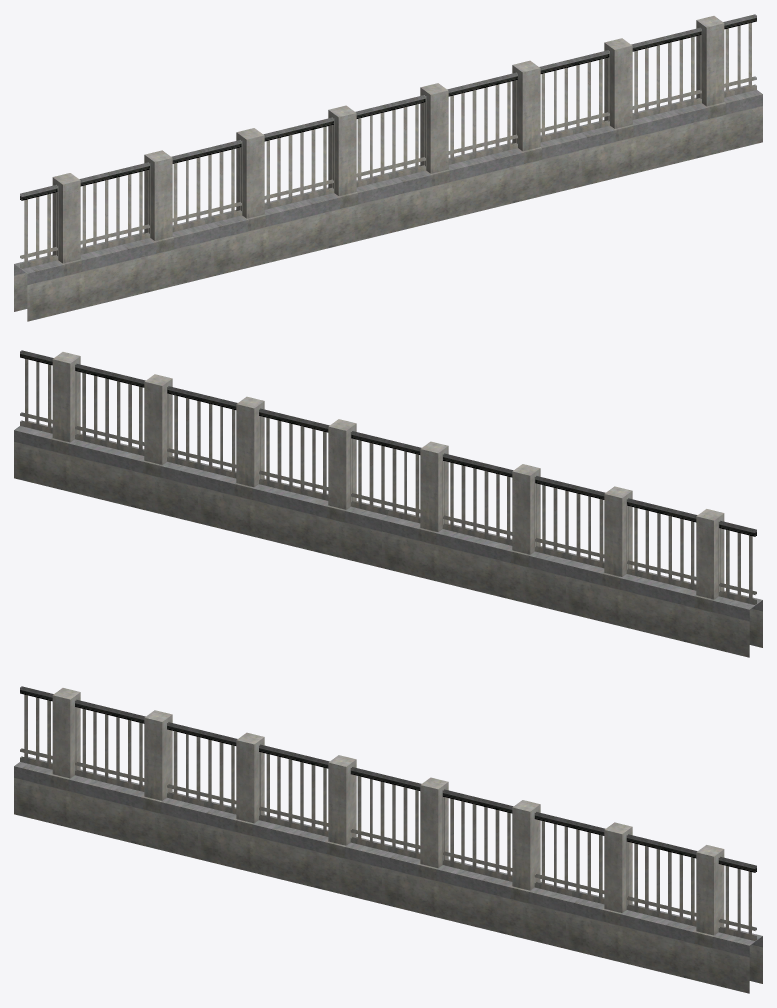
File: thm_corl_imprv_wall_4x32_s02_l2.fbx
The picture shows the model from 3 angles, top to bottom: view 1: azimuth 30°, elevation 25°; view 2: azimuth 150°, elevation 25°; view 3: azimuth 330°, elevation 25°; orthographic projection.
Parts seen in each view (by area): view 1: mesh_node; view 2: mesh_node; view 3: mesh_node.
Part boxes in pixels (bbox=[...]): mesh_node: bbox=[14, 14, 762, 321]; mesh_node: bbox=[14, 350, 762, 657]; mesh_node: bbox=[14, 686, 762, 993].
Bounding box in the file's own units: 32 × 5.28 × 1.
